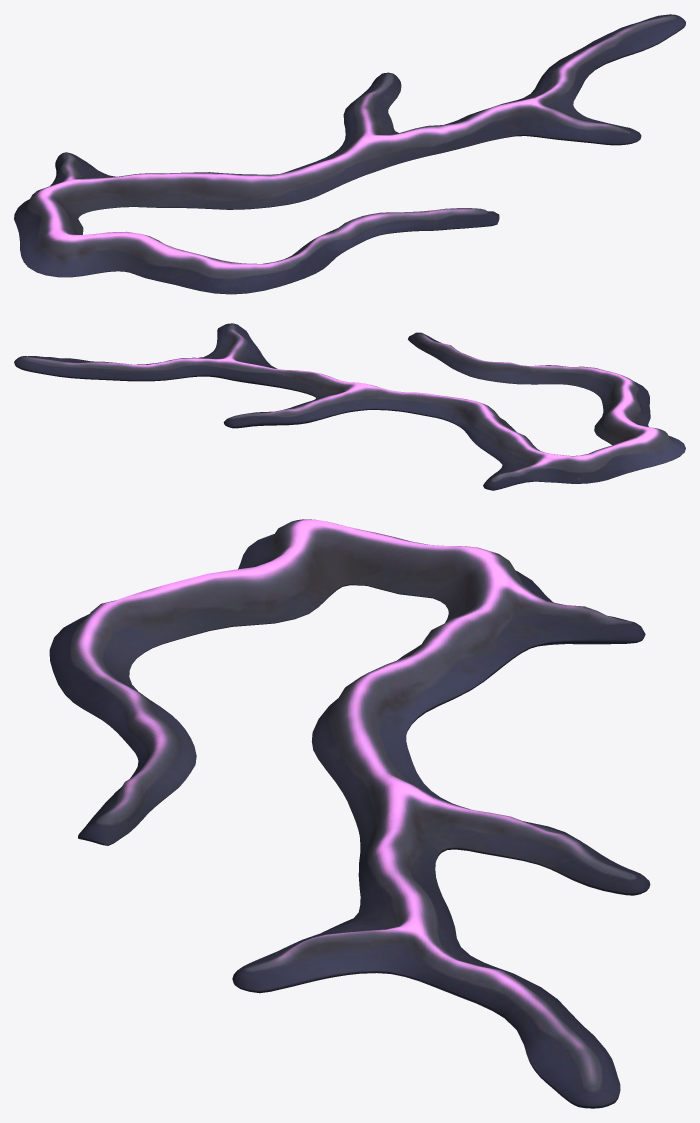
File: caos_sts_chaosgrowth_02a_v35.glb
3 renders of one model, top to bottom at view 1: azimuth 30°, elevation 25°; view 2: azimuth 150°, elevation 25°; view 3: azimuth 270°, elevation 25°, orthographic. The views are drawn at different scales.
Parts seen in each view (by area): view 1: caos_sts_chaosgrowth_02a; view 2: caos_sts_chaosgrowth_02a; view 3: caos_sts_chaosgrowth_02a.
Part boxes in pixels (box(x1,y1,x2,y2)): caos_sts_chaosgrowth_02a: box(14, 14, 685, 294); caos_sts_chaosgrowth_02a: box(14, 323, 685, 490); caos_sts_chaosgrowth_02a: box(49, 519, 650, 1108).
Size of the model in its own units: 36.38 by 1.12 by 15.92.
1 material, 1 textured.
